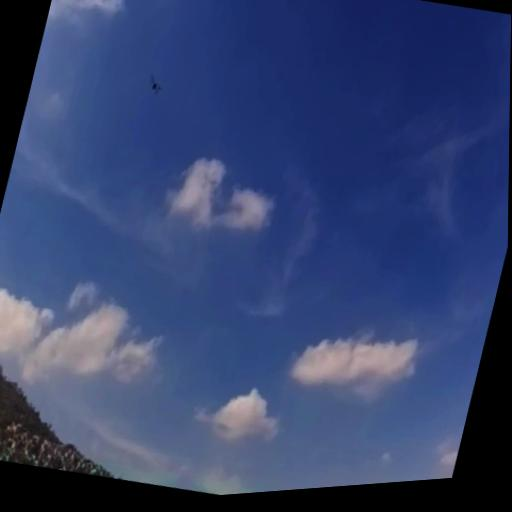drones: (142, 68, 167, 106)
